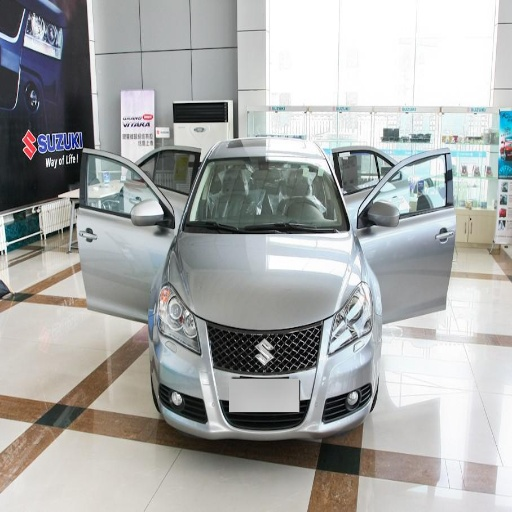front_bumper: (154, 315, 372, 439)
front_left_light: (328, 284, 373, 354)
front_right_door: (107, 162, 166, 265)
front_right_light: (155, 283, 200, 350)
hood: (174, 231, 356, 325)
